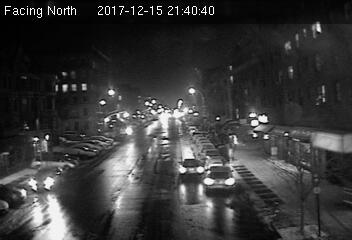car: (29, 167, 63, 194), (203, 166, 237, 192), (178, 158, 205, 179)
